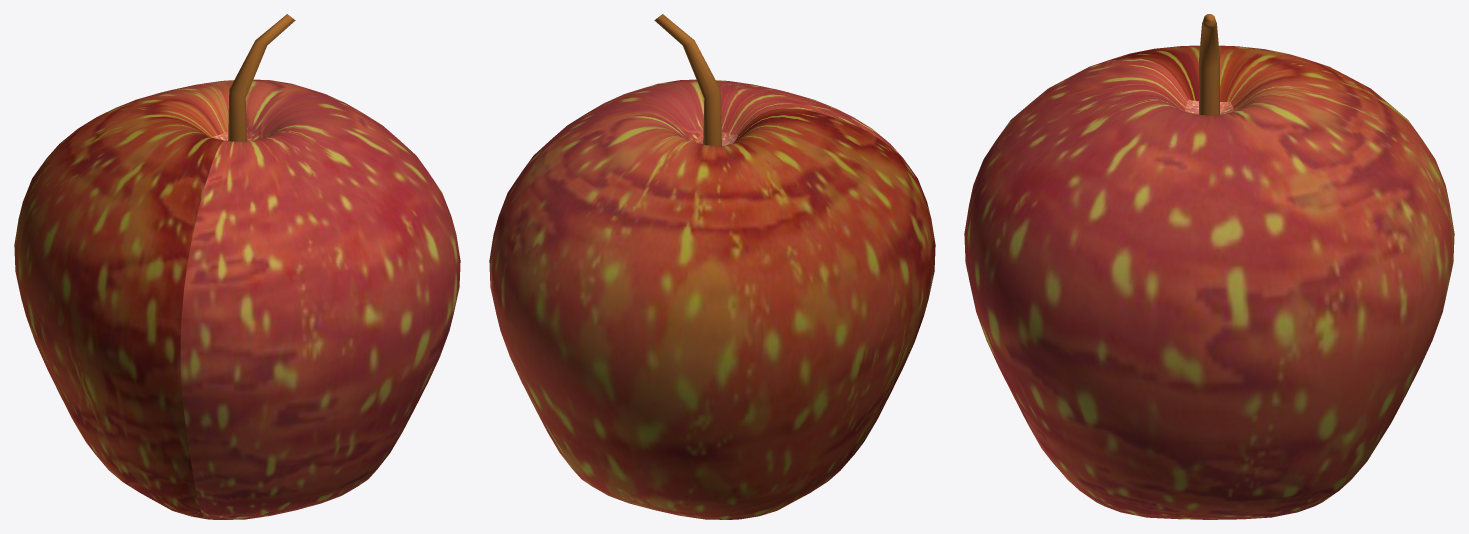
Rendered from apple.fbx.
3 renders of one model, left to right at view 1: azimuth 30°, elevation 25°; view 2: azimuth 150°, elevation 25°; view 3: azimuth 270°, elevation 25°, orthographic. The views are drawn at different scales.
Parts seen in each view (by area): view 1: Cube, Cylinder; view 2: Cube, Cylinder; view 3: Cube, Cylinder.
Boxes of the visible parts, x1=… form: Cube: x1=14, y1=79, x2=460, y2=519; Cylinder: x1=228, y1=14, x2=295, y2=141; Cube: x1=489, y1=79, x2=935, y2=519; Cylinder: x1=654, y1=14, x2=721, y2=145; Cube: x1=964, y1=45, x2=1454, y2=519; Cylinder: x1=1199, y1=14, x2=1219, y2=115.
Size of the model in its own units: 276 by 320 by 289.
